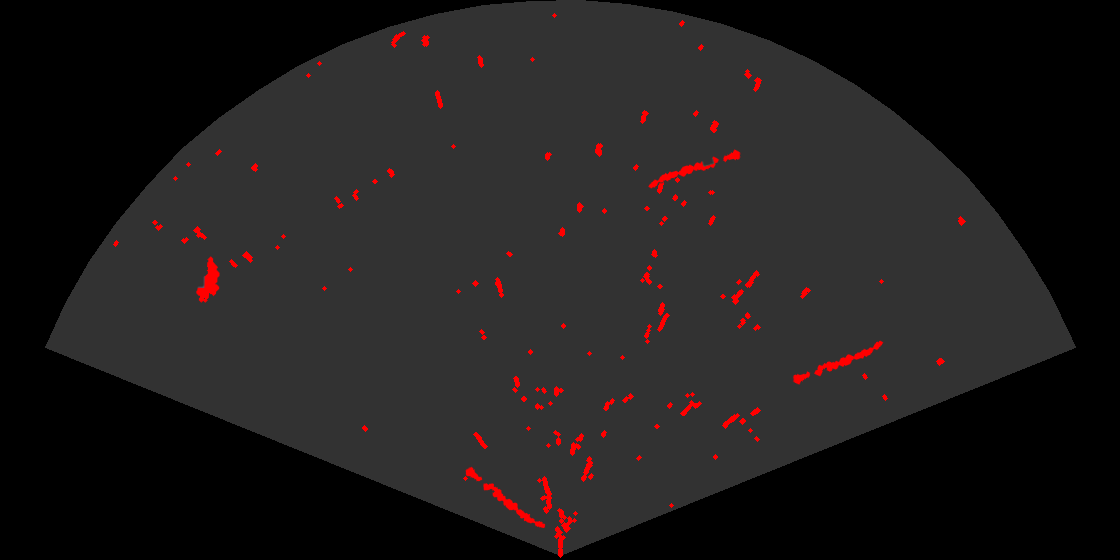AUV: (195, 255, 221, 304)
chain: (464, 465, 547, 530), (791, 339, 885, 386), (647, 148, 743, 190)
